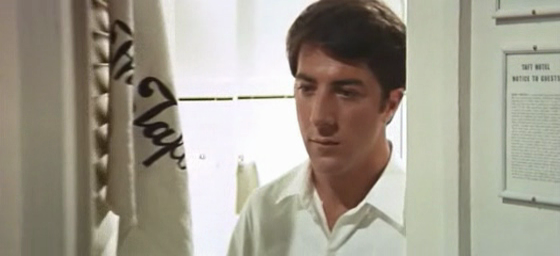cu: (1, 1, 560, 256)
face: (294, 46, 381, 176)
person: (225, 1, 407, 256)
